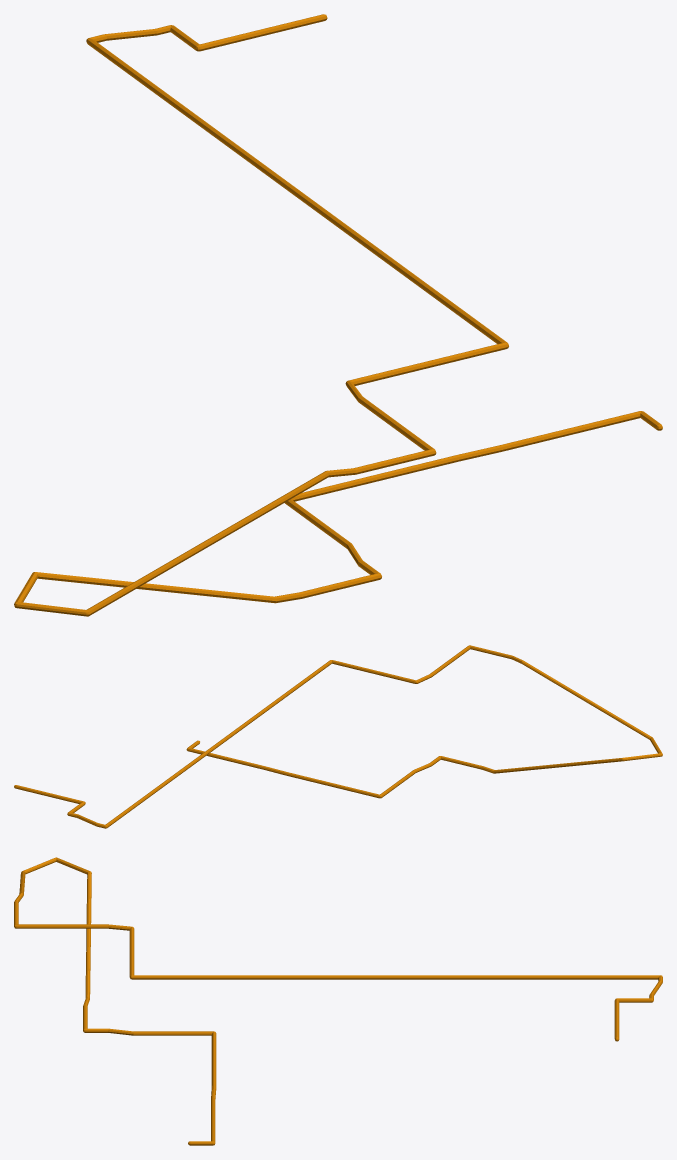
3 views of the same model, one above another, from view 1: azimuth 30°, elevation 25°; view 2: azimuth 150°, elevation 25°; view 3: azimuth 270°, elevation 25° (orthographic). The views are drawn at different scales.
Size of the model in its own units: 2407 by 520 by 2824.
